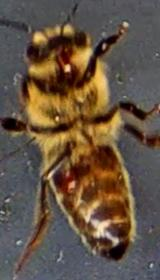varroa_mite: (52, 163, 82, 199)
